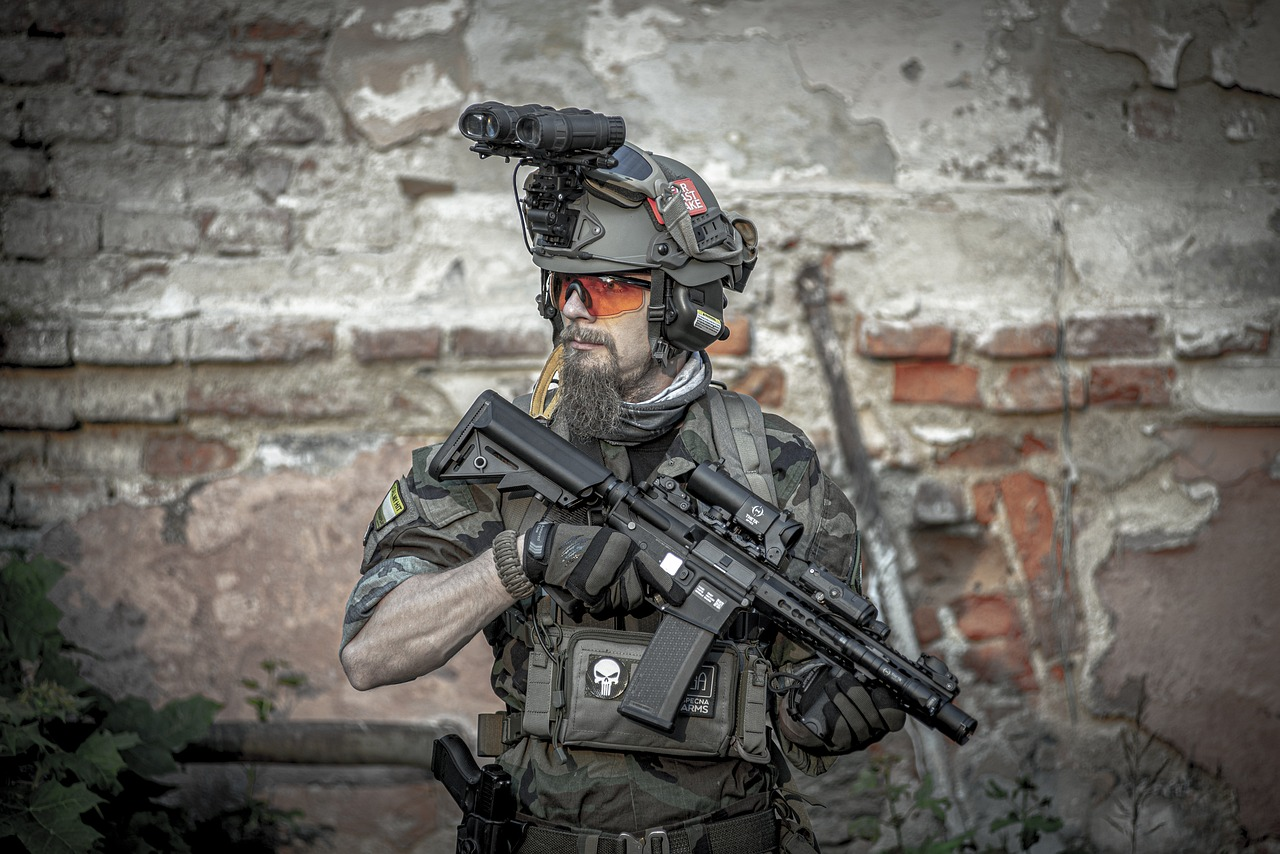gun: (421, 382, 981, 748)
